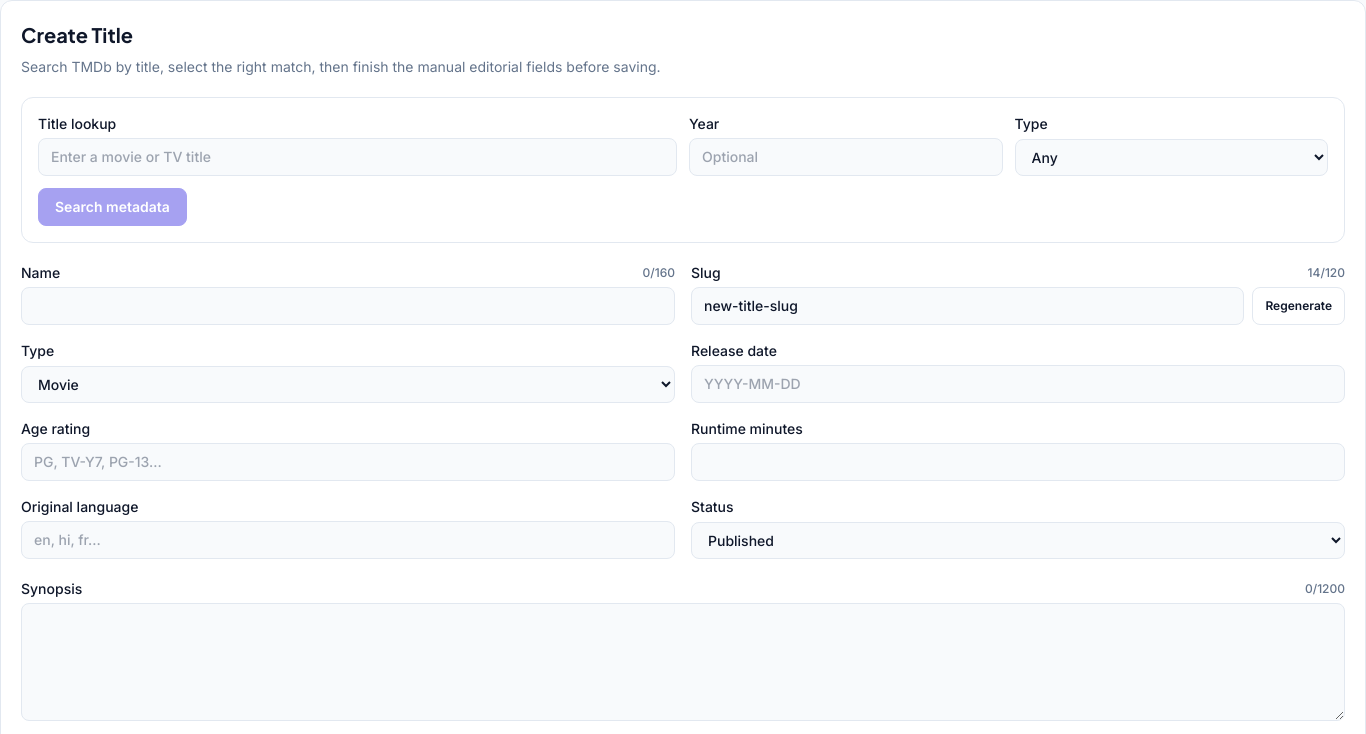
AdminTitleForm › autofills the form from a selected metadata match
Type "The Matrix" into the field labelled "Title lookup". click: coordinates (358, 157)
box: 38,138 -> 677,176
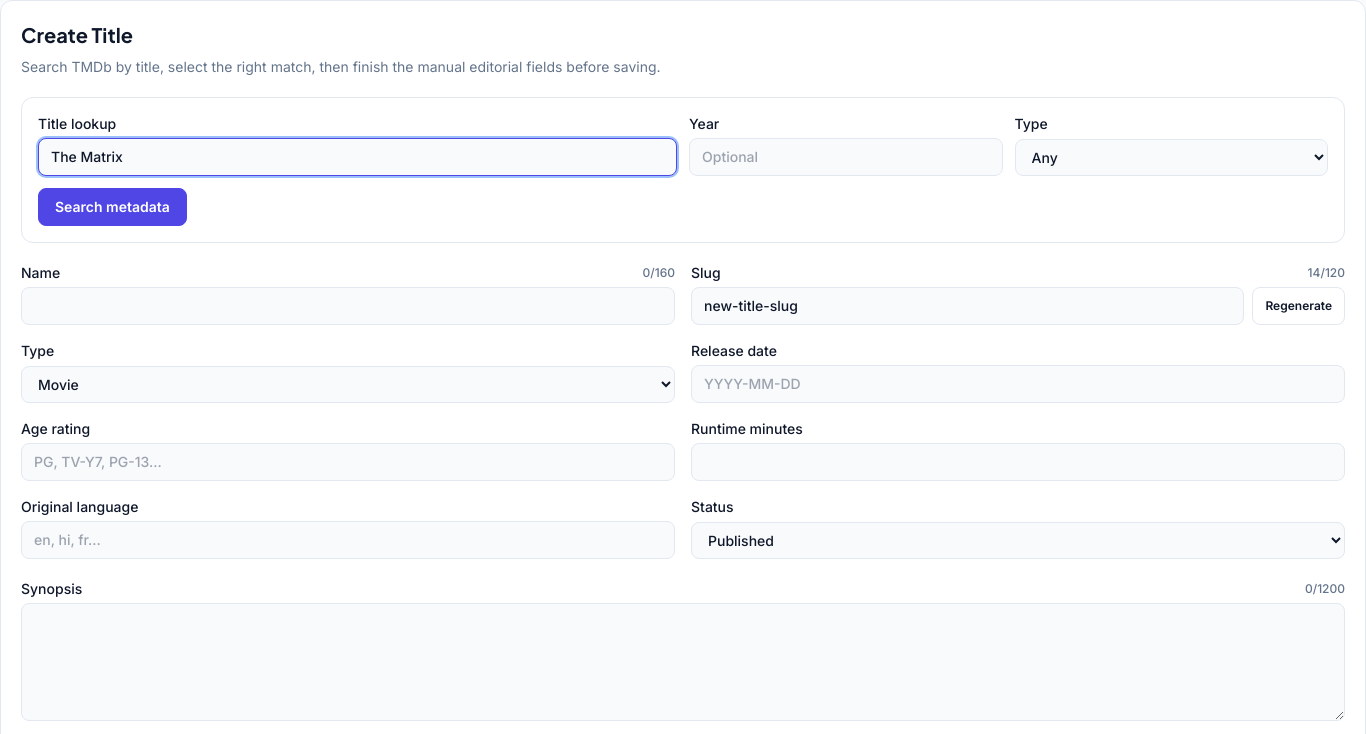
Type "1999" into the field labelled "Year". click: coordinates (846, 157)
box: 689,138 -> 1002,176
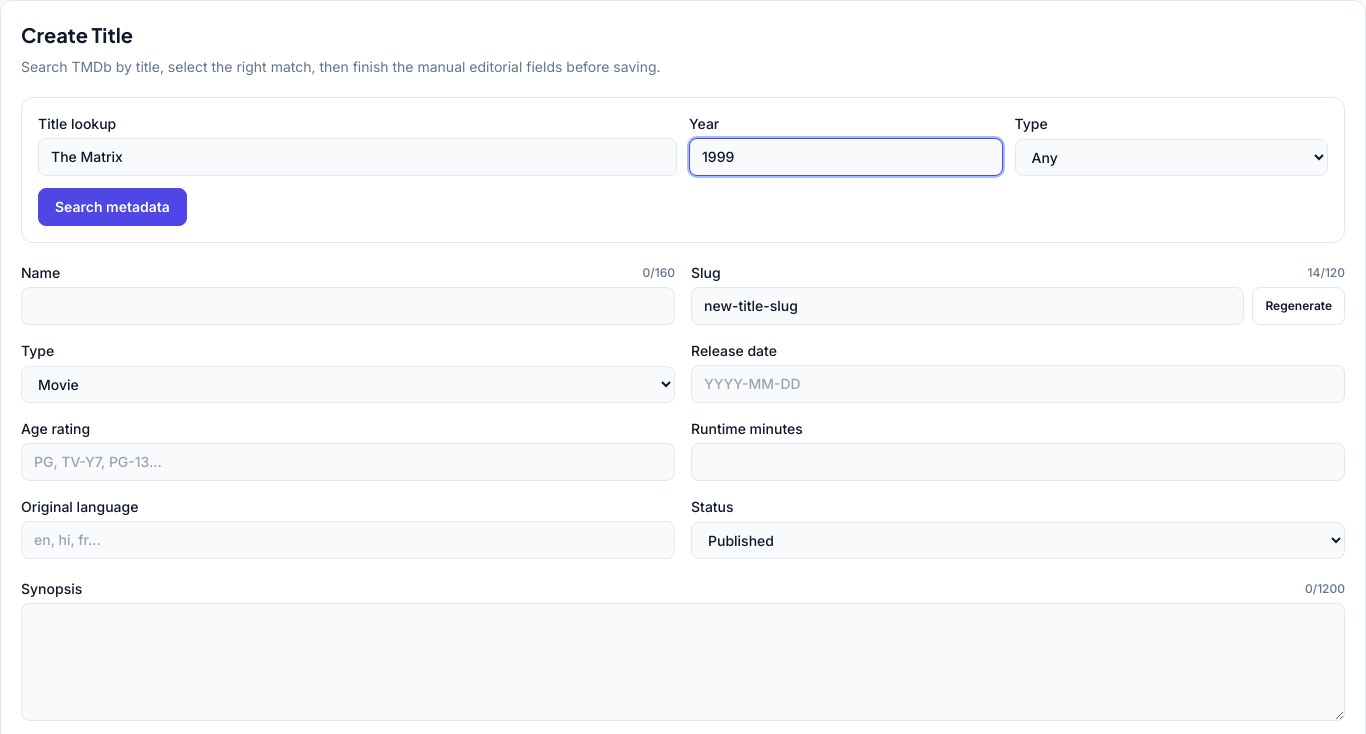
Click the button "Search metadata". click: coordinates (112, 207)
box: 38,188 -> 187,226
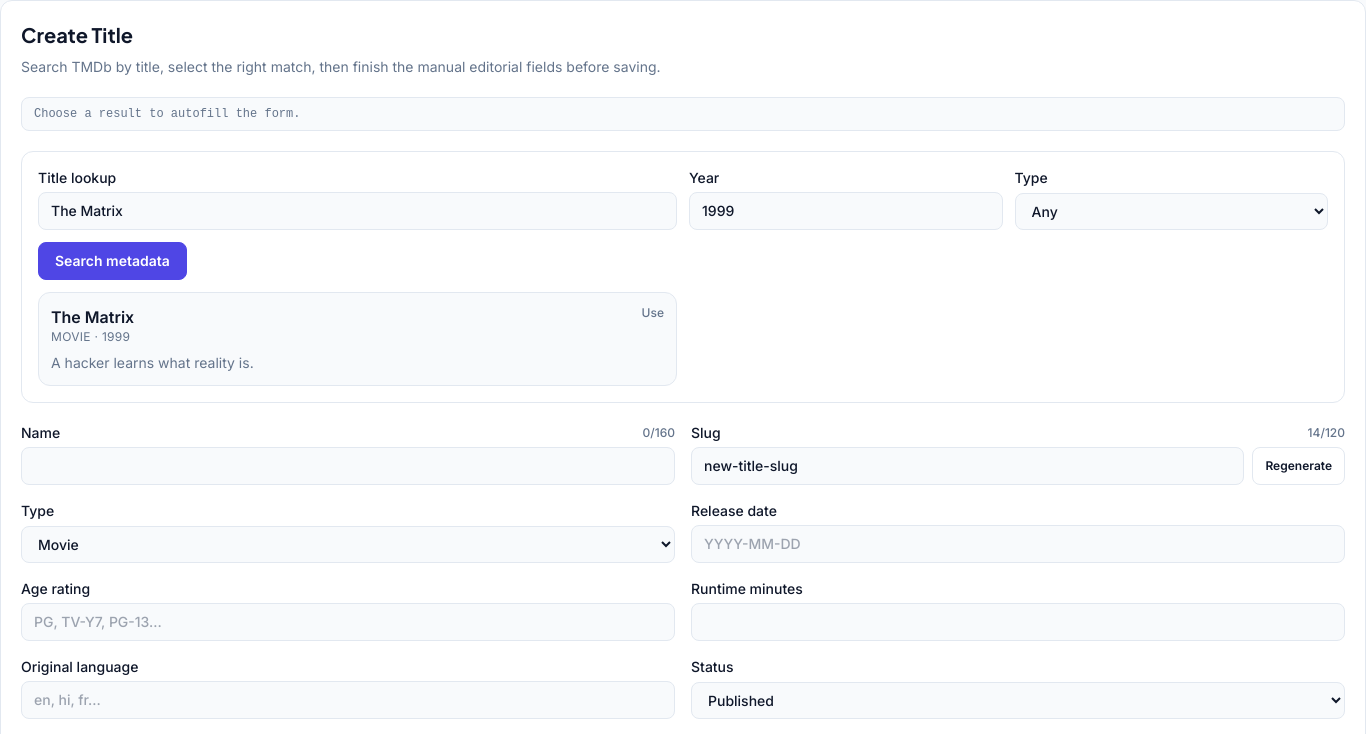
Click the button "The Matrix Movie · 1999 Use A hacker learns what reality is.". click: coordinates (93, 317)
box: 38,292 -> 677,386
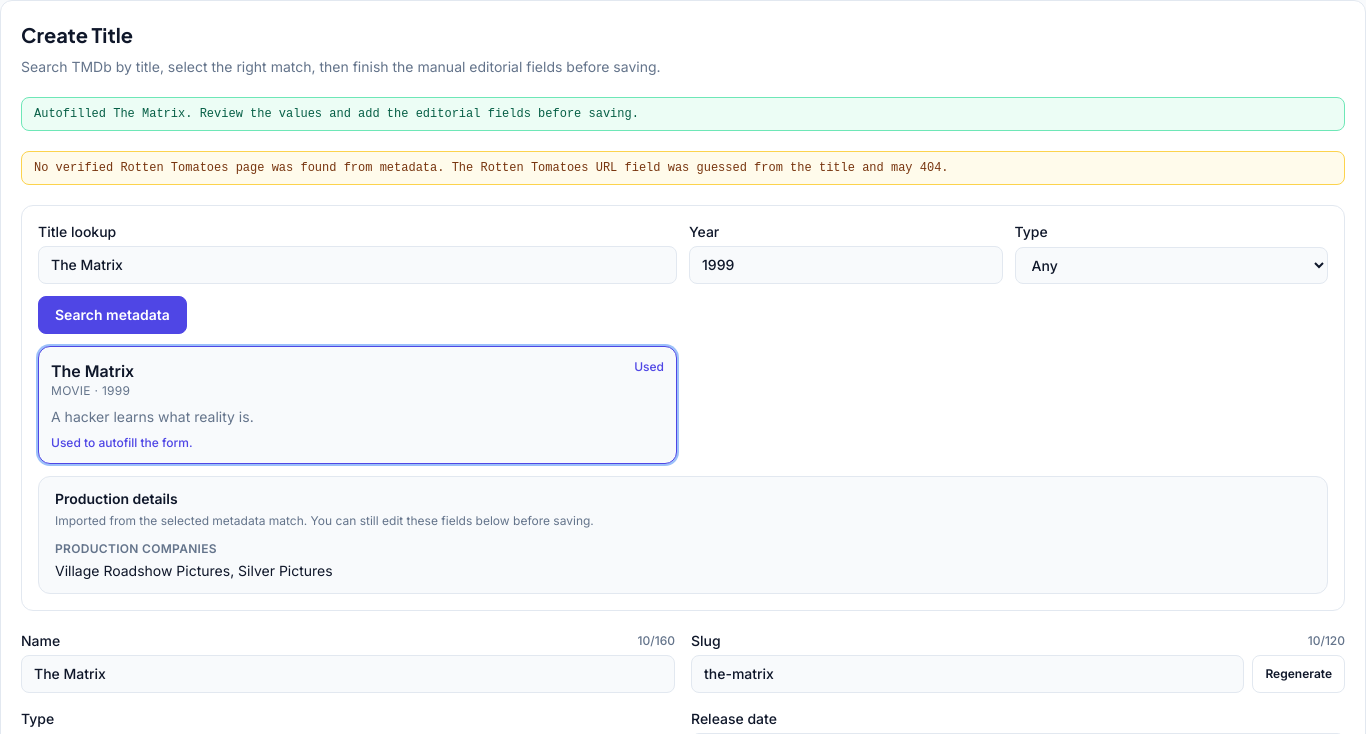
Expected: the field labelled "Name" holds "The Matrix", 21,655 -> 675,693
Expected: the field labelled "Slug" holds "the-matrix", 691,655 -> 1244,693
Expected: the heading "Production details" is shown, 55,490 -> 178,507
